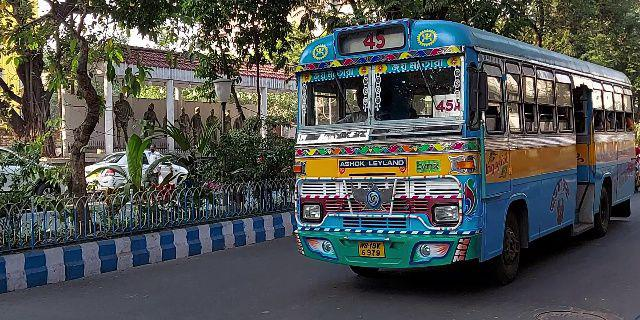Bus: (290, 18, 636, 280)
